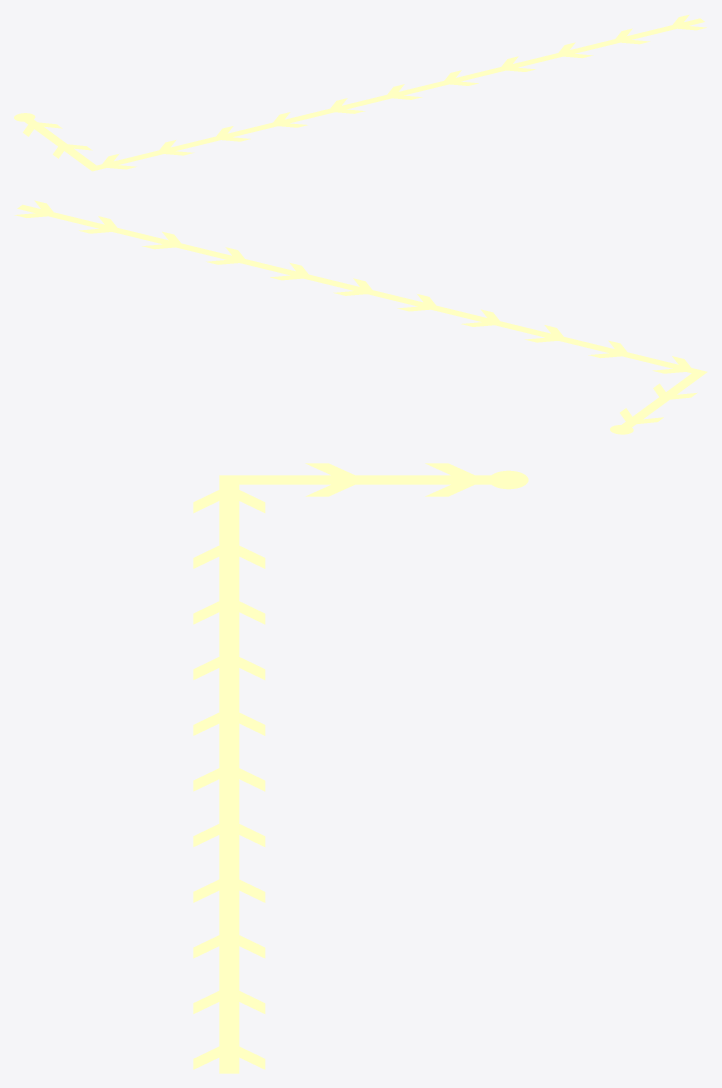
Rendered from Trivia_Machine_Guide_UI_(1).glb.
The picture shows the model from 3 angles, top to bottom: view 1: azimuth 30°, elevation 25°; view 2: azimuth 150°, elevation 25°; view 3: azimuth 270°, elevation 25°; orthographic projection. The views are drawn at different scales.
Visible parts, largest first — view 1: Plane.002; view 2: Plane.002; view 3: Plane.002.
Boxes of the visible parts, x1,y1,x2,y2 form: Plane.002: [14, 14, 706, 171]; Plane.002: [14, 200, 707, 434]; Plane.002: [193, 463, 528, 1073].
Bounding box in the file's own units: 14.48 × 1.98e-09 × 3.36.
